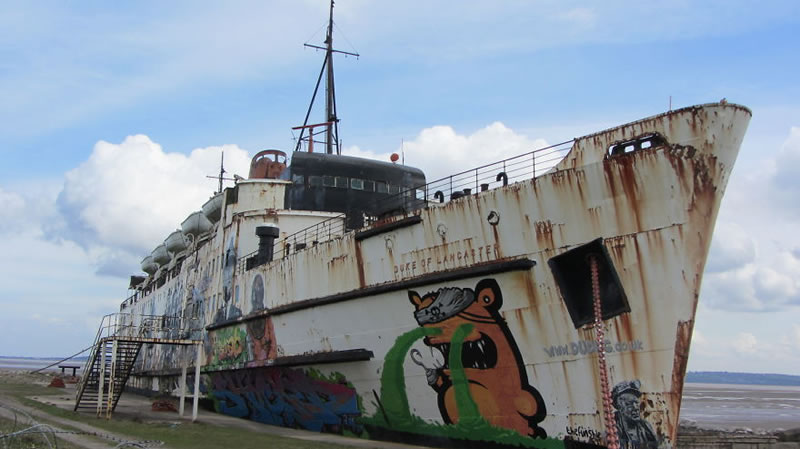rust: (606, 145, 727, 213), (610, 317, 699, 389), (534, 221, 563, 246)
